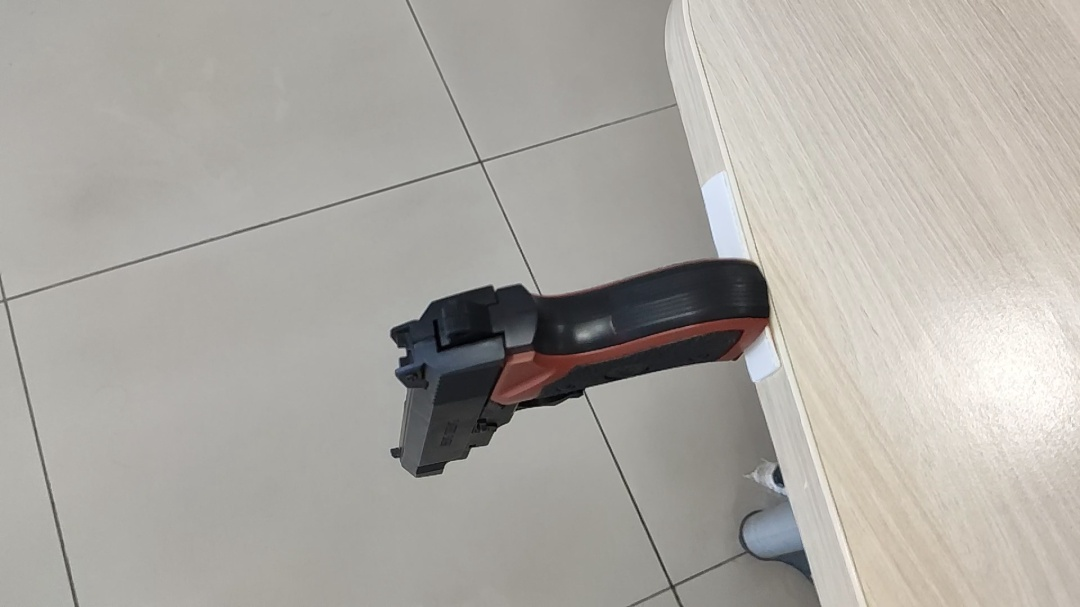gun: (355, 251, 518, 356)
